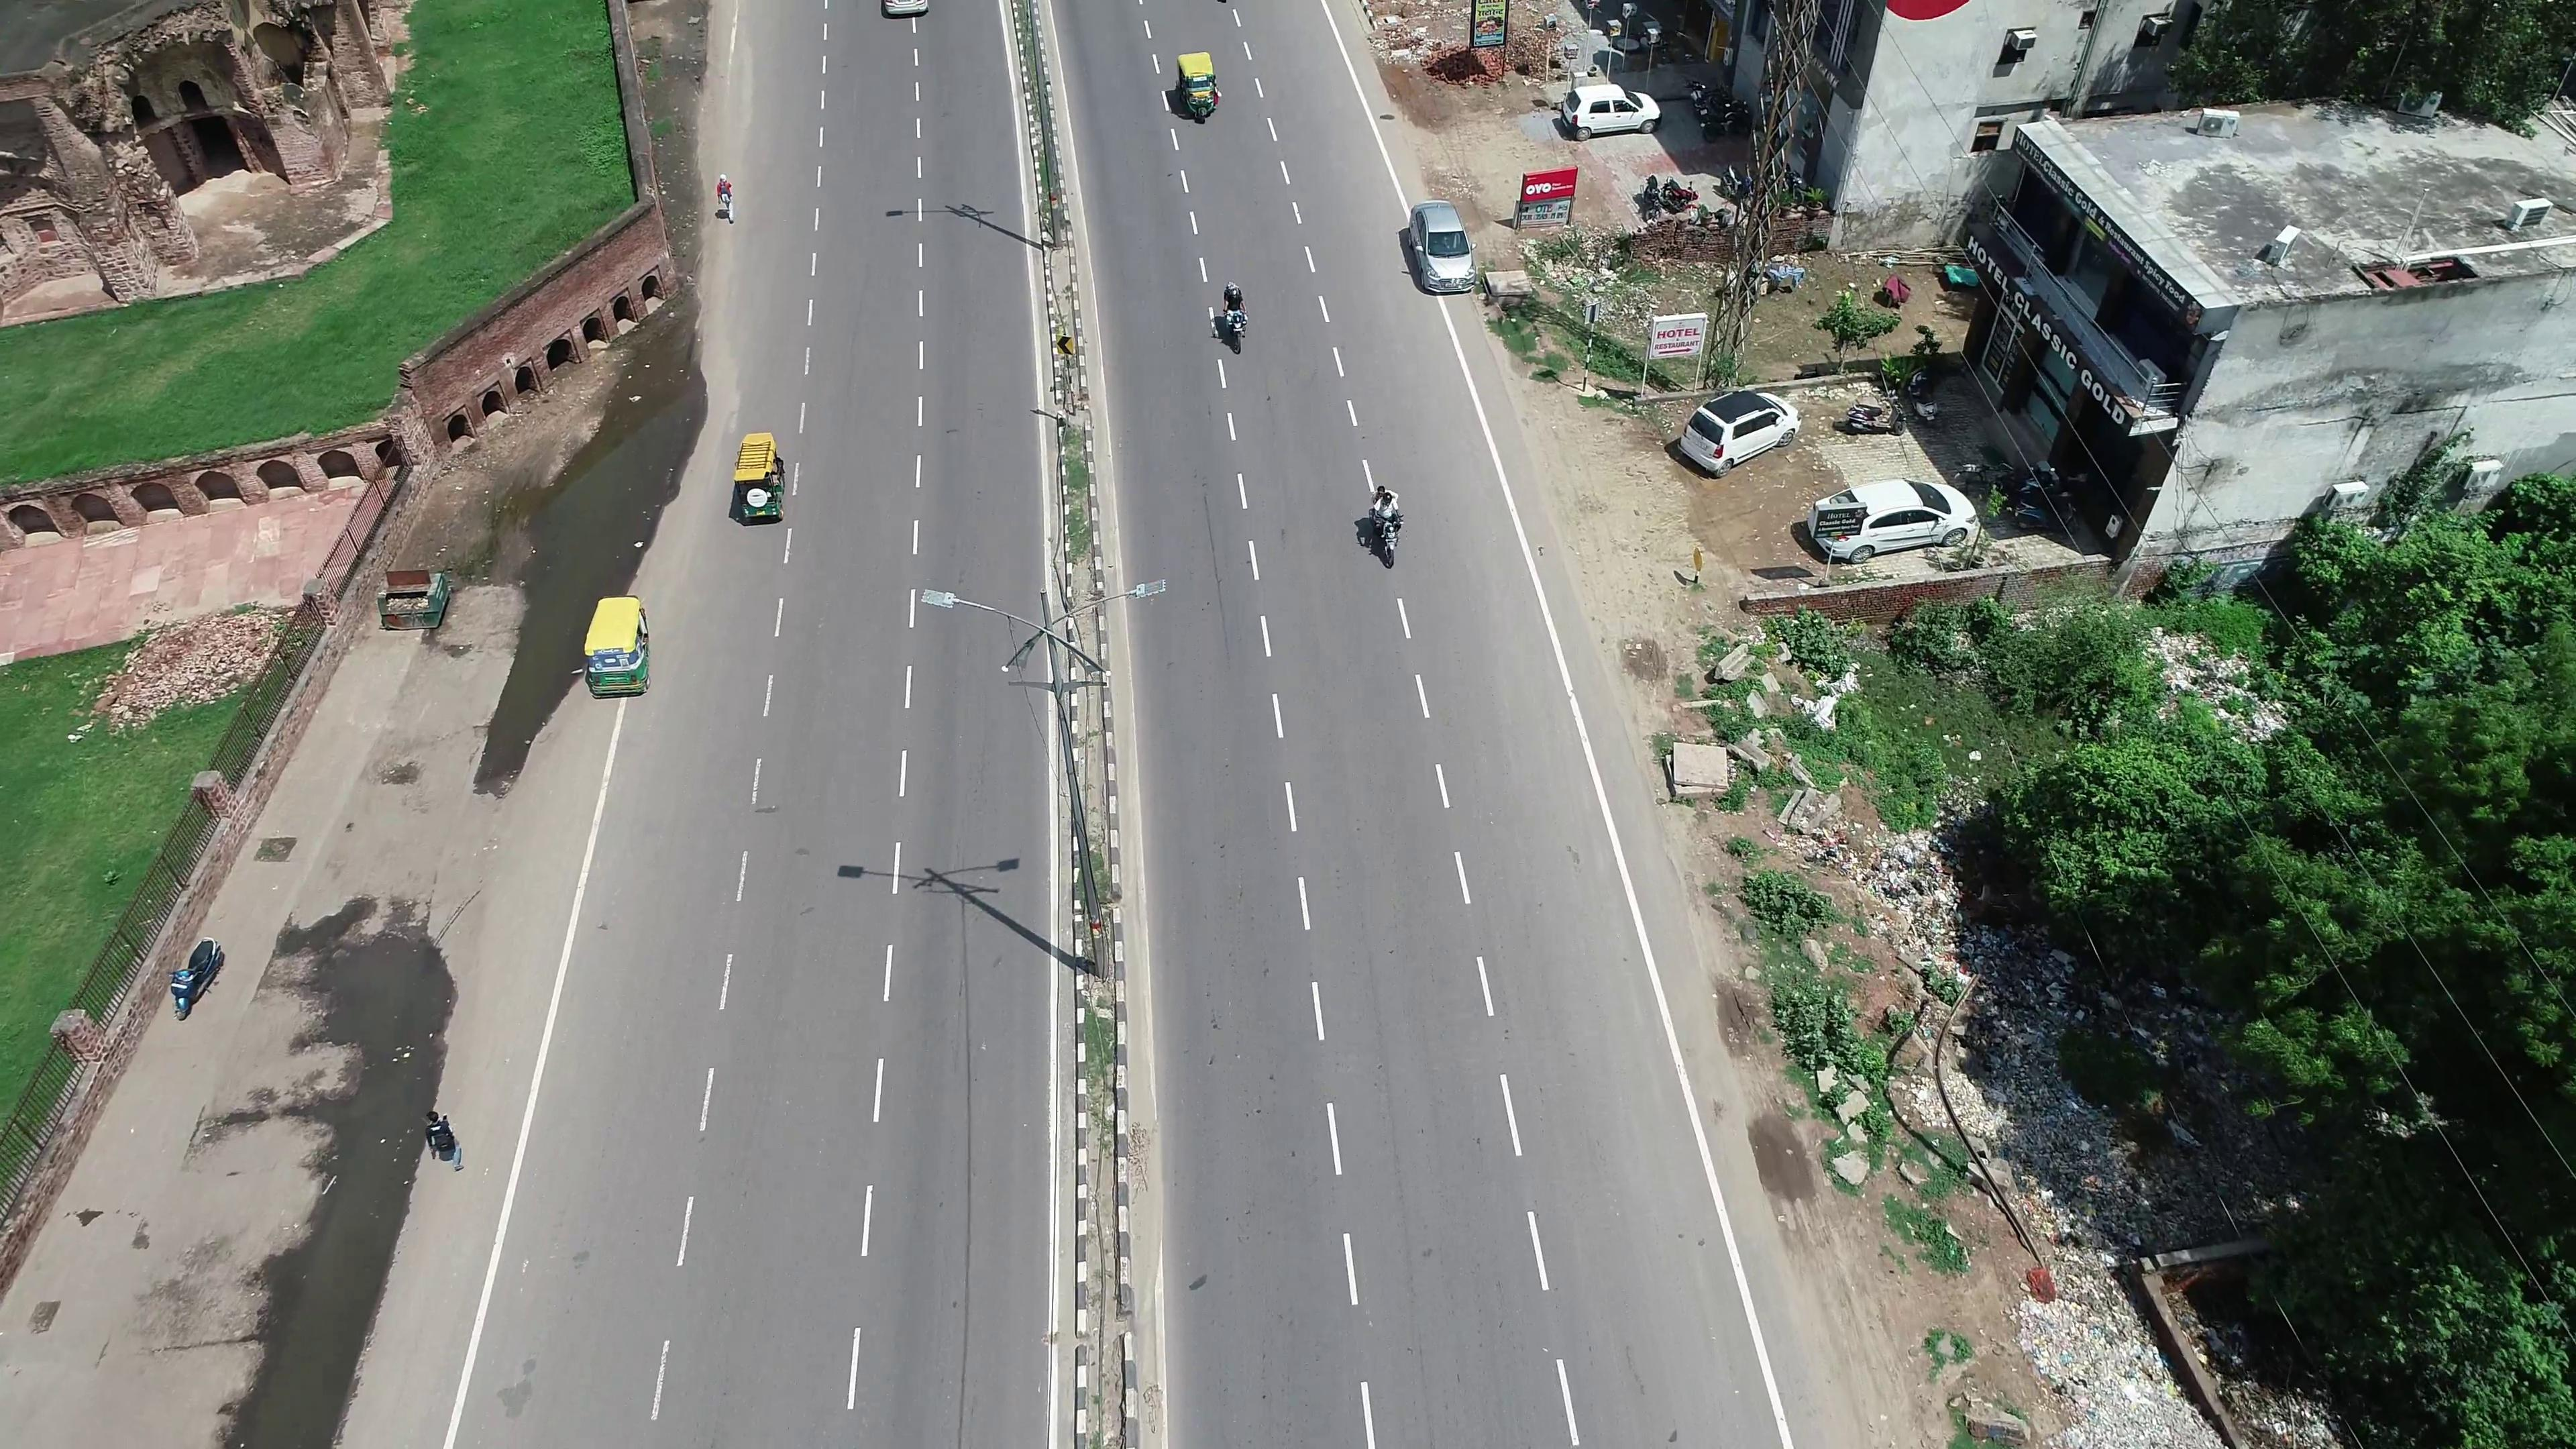Road_side_garbage: (2010, 1316, 2206, 1442)
Waterlogging: (540, 345, 702, 586)
